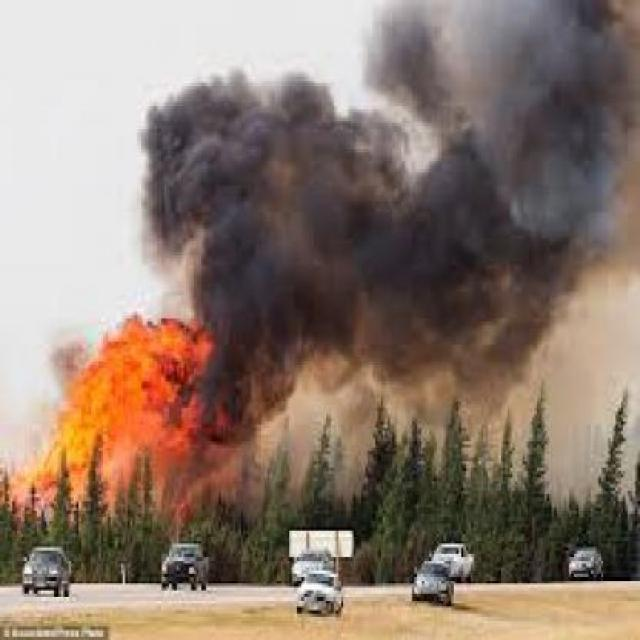Fire: (2, 290, 237, 542)
Smoke: (38, 1, 640, 335)
